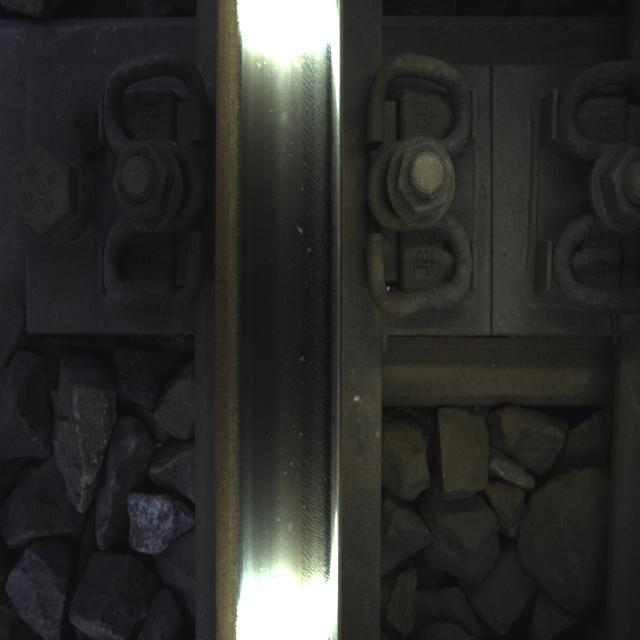normal: (248, 28, 328, 598)
